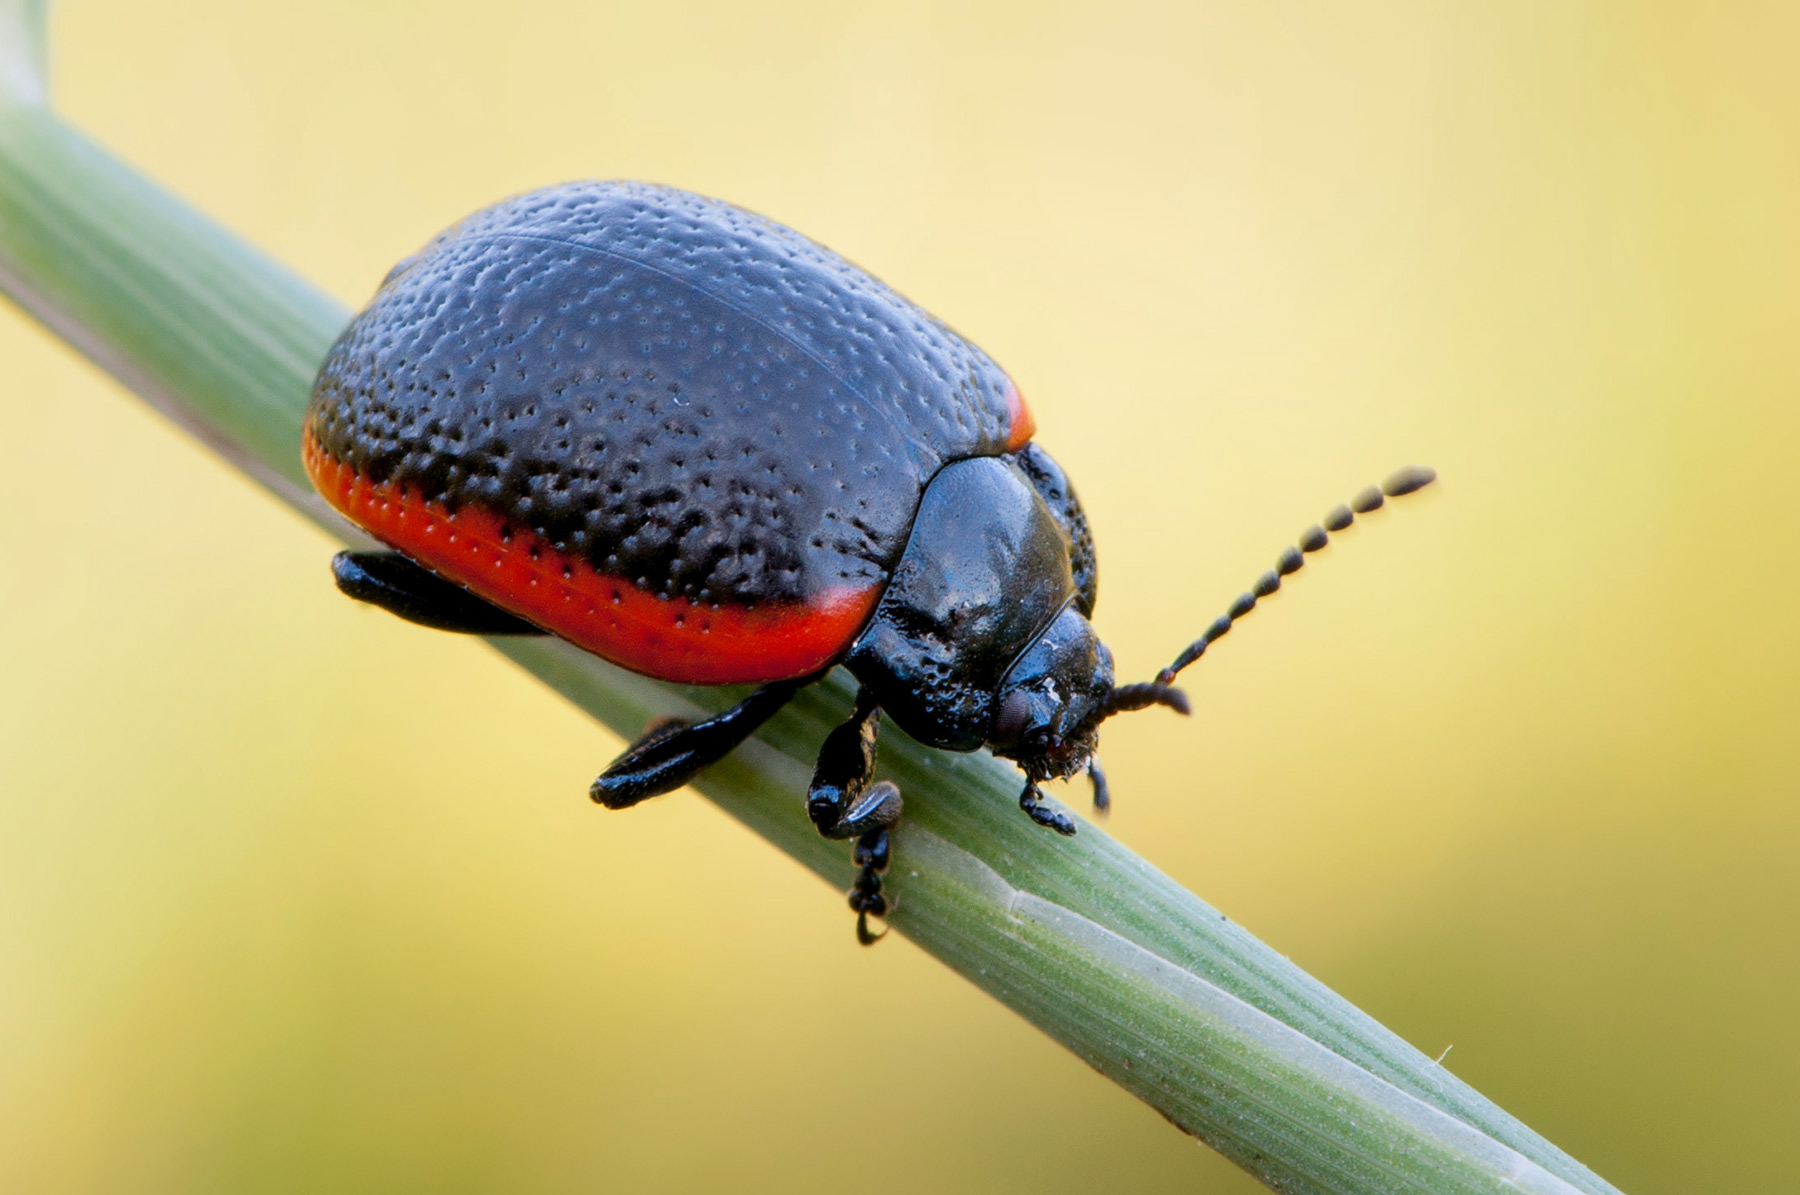Chrysolina_gypsophila: (300, 169, 1456, 954)
